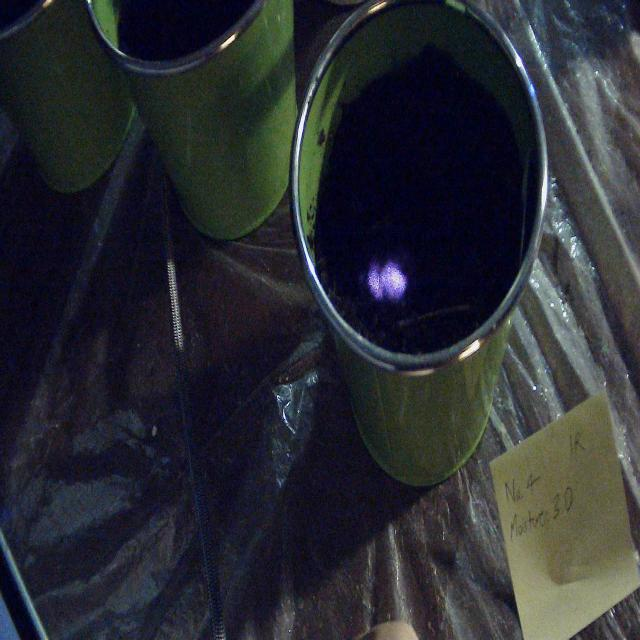soil-moisture-3.0: (364, 258, 407, 302)
